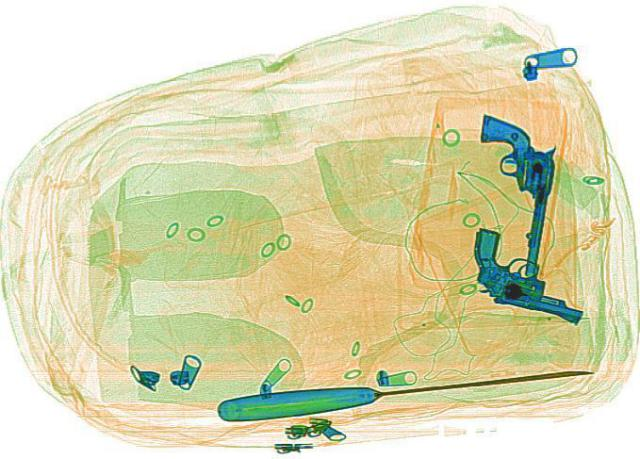Gun: (454, 113, 564, 276), (441, 225, 614, 322)
Knife: (213, 355, 595, 422)
